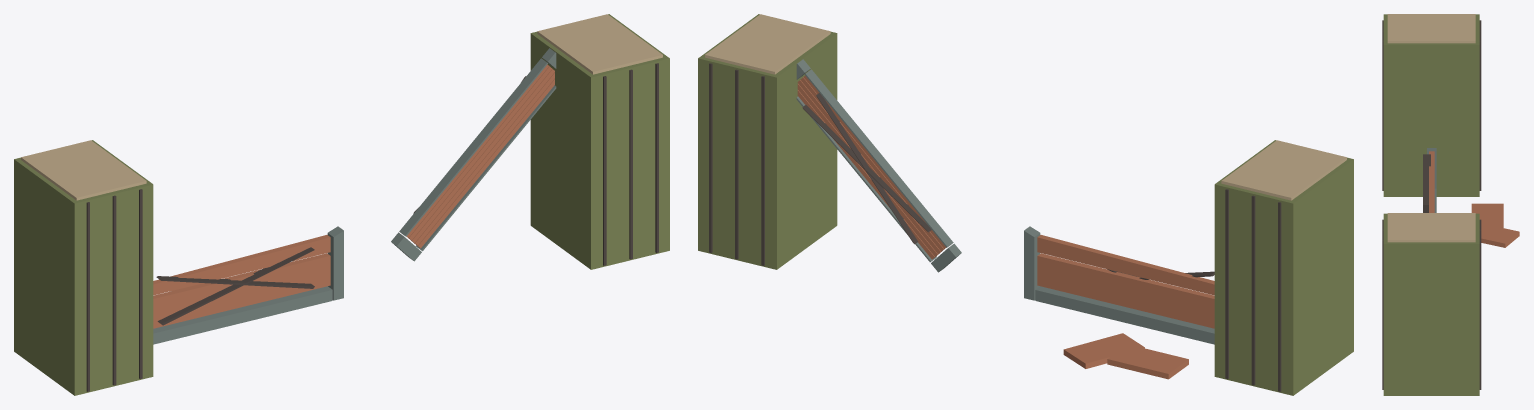
The model's file is SM_PuertaVia_v2_Tablones_e2_MuyDanado_LOD0.fbx.
3 views of the same model, side by side, from view 1: azimuth 30°, elevation 25°; view 2: azimuth 150°, elevation 25°; view 3: azimuth 270°, elevation 25° (orthographic). The views are drawn at different scales.
Visible parts, largest first — view 1: SM_bloques.puerta_via_v10_LOD0, Hoja_O, Hoja_E; view 2: SM_bloques.puerta_via_v10_LOD0, Hoja_O, Hoja_E; view 3: SM_bloques.puerta_via_v10_LOD0, Hoja_O.
Part boxes in pixels (x1,y1,x2,y2): SM_bloques.puerta_via_v10_LOD0: (14,14,669,395); Hoja_O: (153,226,343,344); Hoja_E: (391,48,556,261); SM_bloques.puerta_via_v10_LOD0: (698,14,1353,395); Hoja_O: (1024,226,1214,344); Hoja_E: (796,59,961,272); SM_bloques.puerta_via_v10_LOD0: (1382,14,1519,395); Hoja_O: (1423,148,1436,212).
Bounding box in the file's own units: 6.8 × 2.13 × 1.72.
